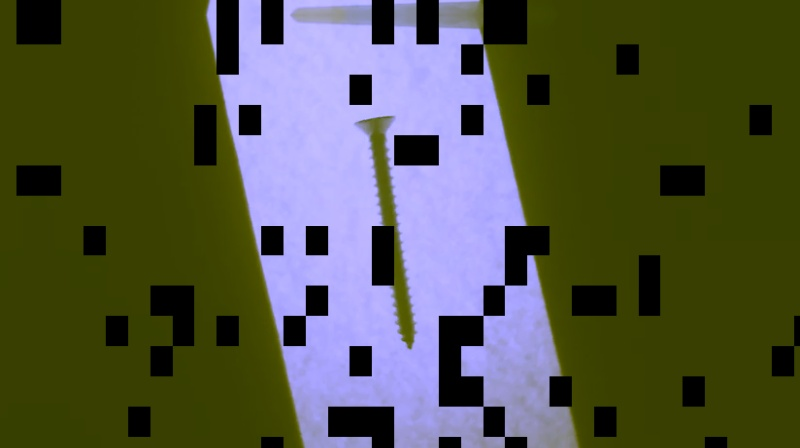S002: (350, 111, 418, 350)
